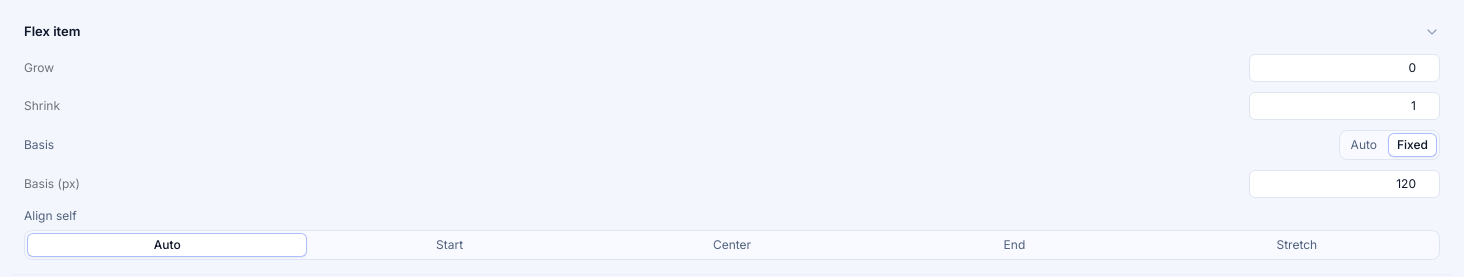
Test case: InspectorFlexChildSection › switching Basis back to Auto clears the fixed value and hides the pixel field
Click the 1st button "Auto" at (1364, 144), box [1342,132,1386,156]
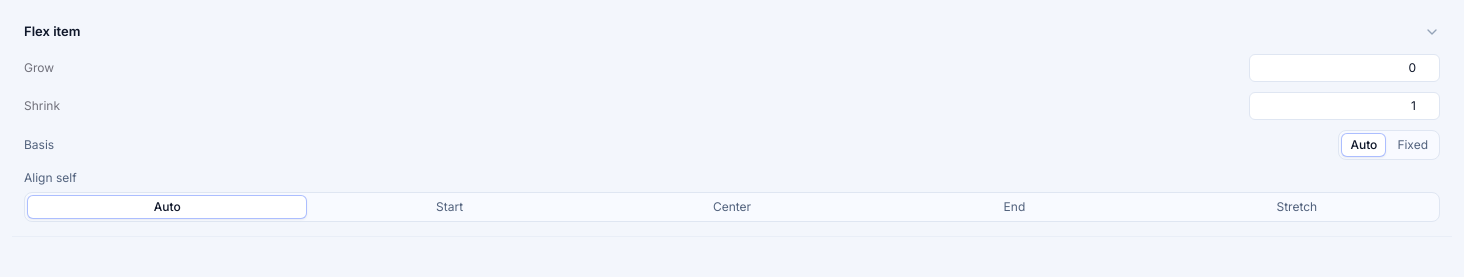
Expected: the label labelled "Basis (px)" is gone
